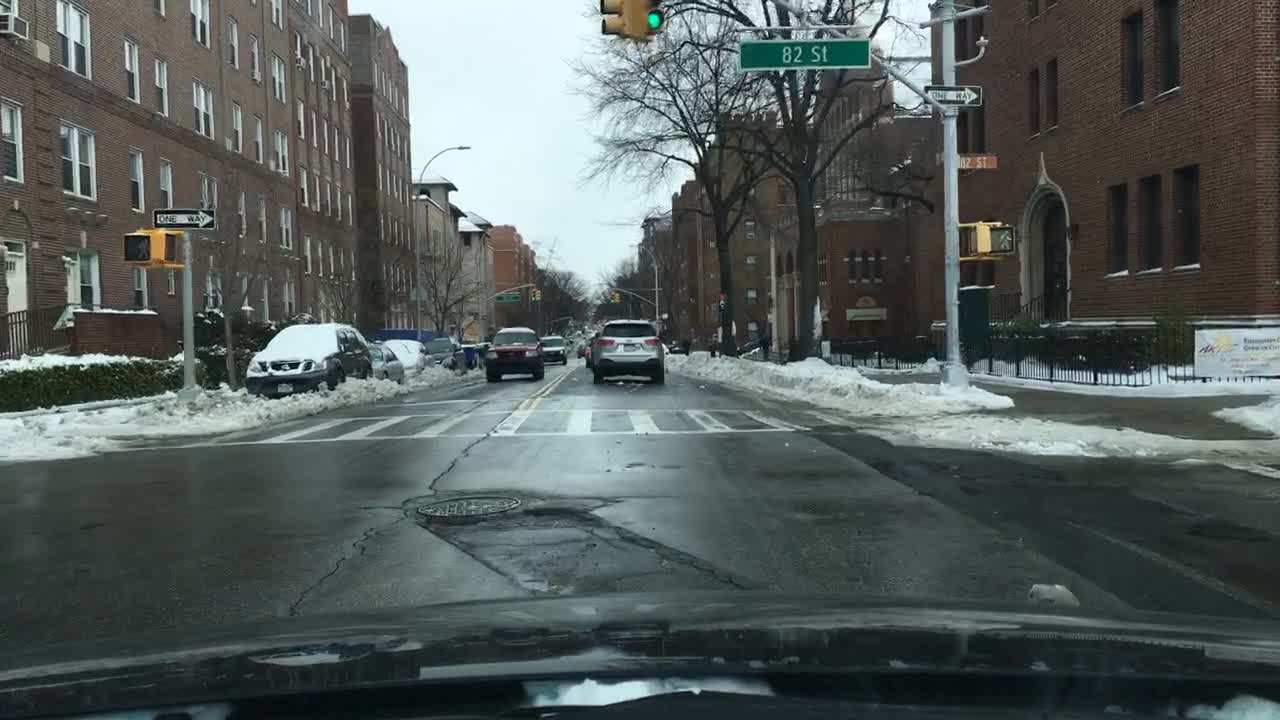car: (243, 322, 371, 397), (592, 318, 666, 385), (483, 325, 545, 382), (383, 337, 427, 375), (368, 341, 405, 382), (424, 337, 455, 366), (541, 333, 568, 366), (462, 337, 484, 363), (668, 337, 690, 353), (576, 339, 589, 358), (582, 327, 597, 338)
traffic light: (599, 0, 644, 34), (122, 229, 157, 261), (154, 231, 185, 266), (646, 3, 669, 37), (536, 288, 543, 304), (614, 292, 623, 304), (608, 292, 614, 303), (530, 288, 535, 300)
traffic sign: (736, 41, 872, 69), (154, 209, 216, 228), (926, 86, 982, 106), (983, 226, 1015, 252), (958, 154, 995, 169), (494, 294, 519, 301)
